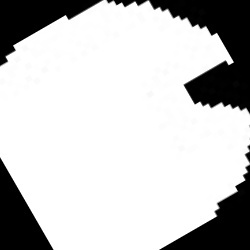spot: (1, 1, 250, 249)
